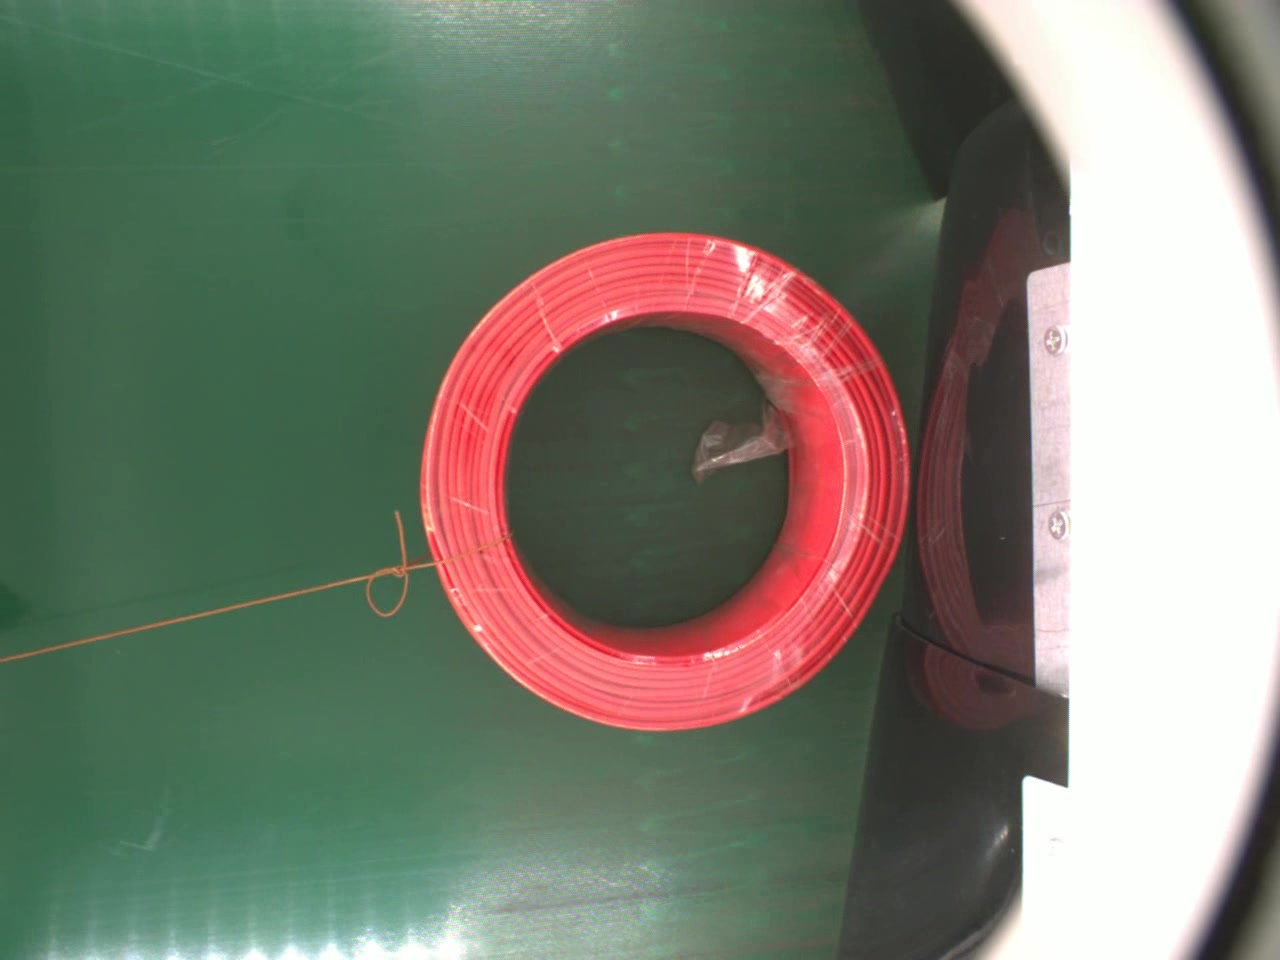red: (411, 225, 903, 730)
